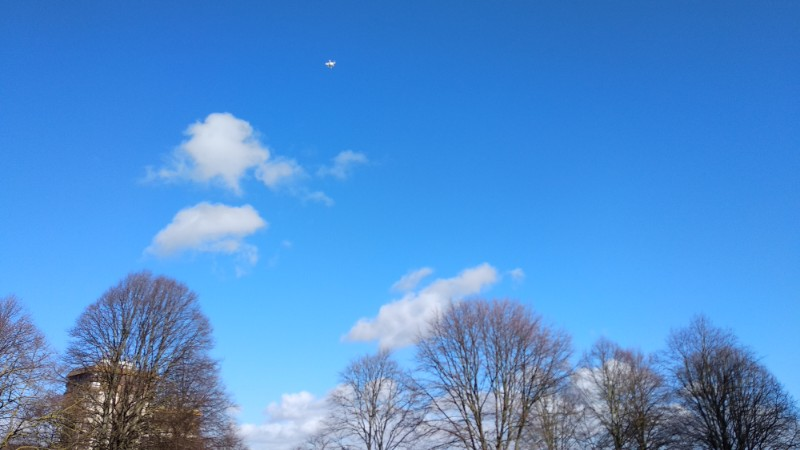drone: (324, 58, 337, 69)
